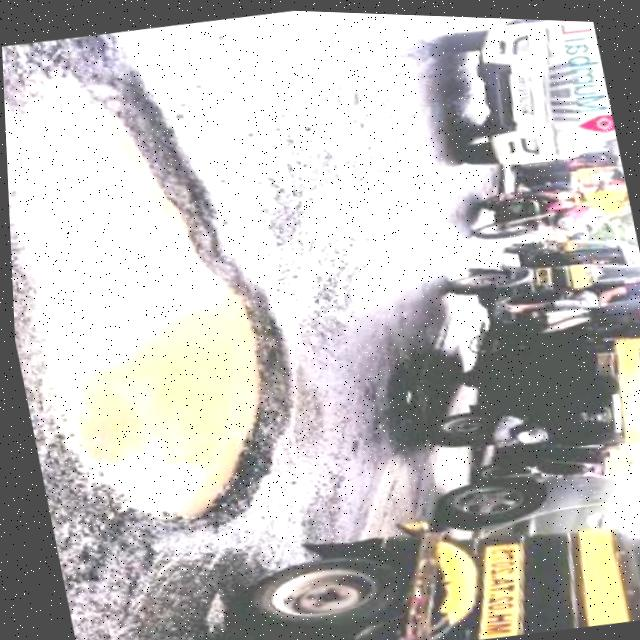Pothole: (0, 11, 323, 561)
